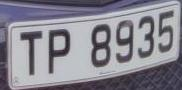3: (134, 12, 157, 60)
5: (155, 8, 176, 55)
8: (87, 21, 115, 71)
9: (112, 16, 137, 66)
P: (44, 23, 76, 79)
T: (16, 25, 47, 84)
